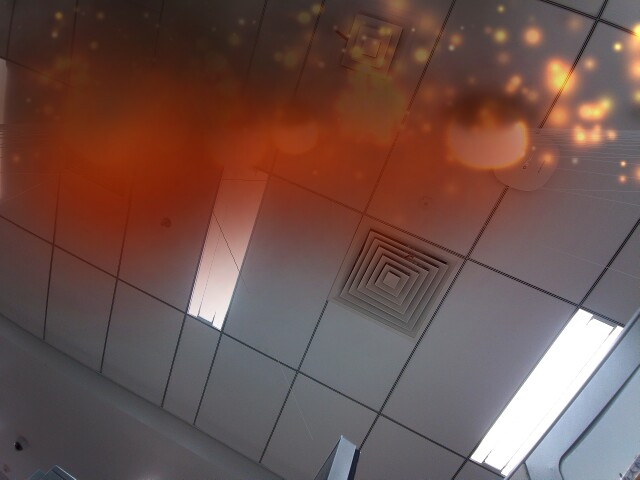fire: (444, 90, 538, 178), (272, 111, 324, 157)
